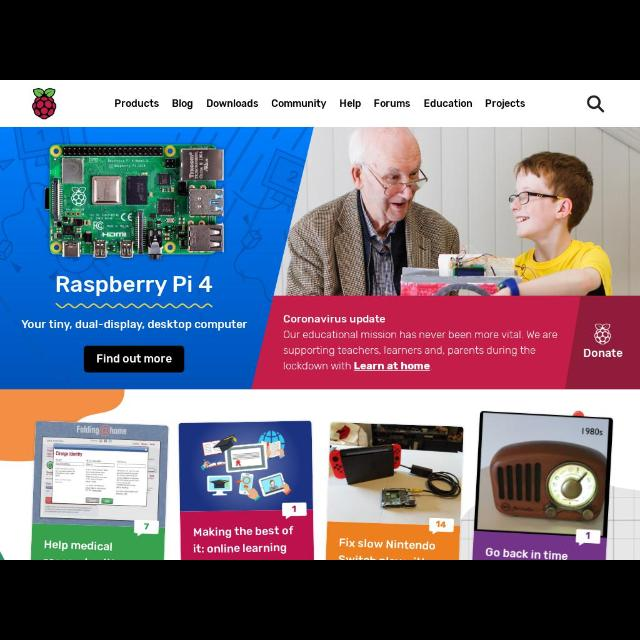backgroundimage: (2, 128, 264, 388)
icon: (585, 322, 621, 346), (586, 95, 606, 113)
image: (313, 128, 633, 294), (52, 146, 222, 254), (482, 412, 606, 536), (330, 423, 462, 522), (38, 424, 162, 526), (180, 427, 306, 509), (54, 298, 218, 312), (32, 88, 56, 120)
text: (280, 328, 560, 357), (56, 273, 212, 297), (191, 522, 295, 558), (20, 318, 248, 330), (338, 534, 438, 552), (283, 312, 387, 326), (44, 534, 114, 554), (284, 358, 352, 374), (484, 549, 570, 559), (206, 96, 258, 110), (268, 98, 326, 110), (480, 98, 526, 112), (112, 98, 160, 110), (424, 97, 472, 109), (584, 348, 622, 358), (171, 97, 193, 109), (370, 102, 410, 108), (337, 100, 359, 110)
textbutton: (84, 351, 184, 372), (352, 363, 432, 373)
toolbar: (3, 82, 639, 126)
